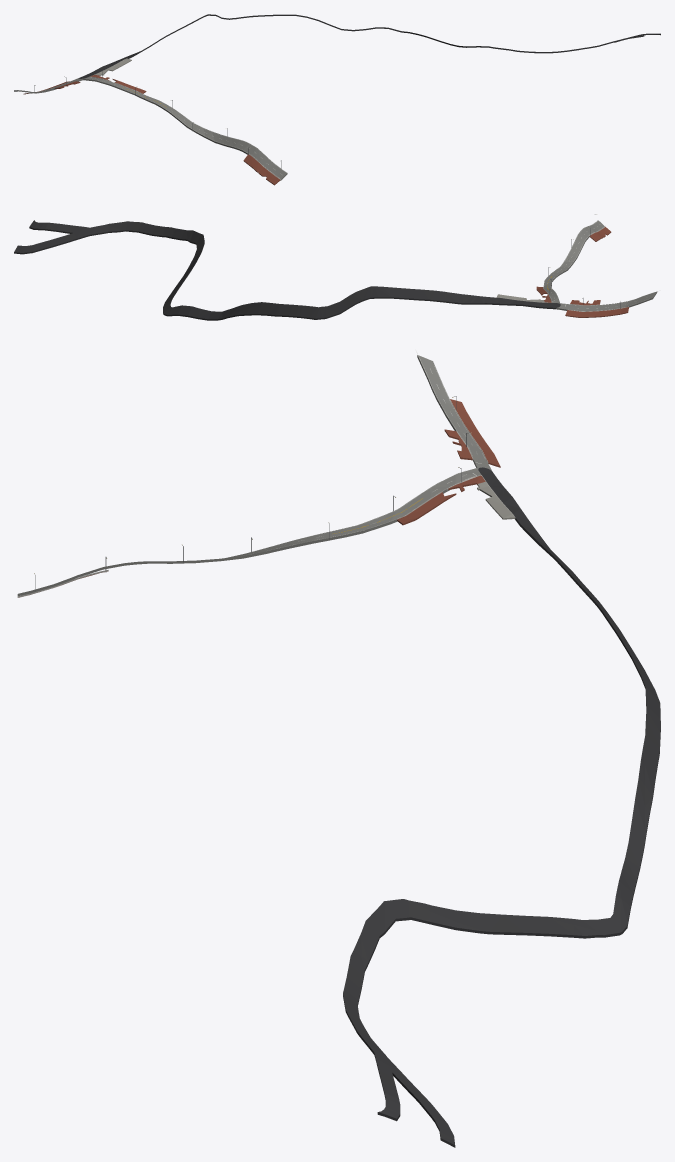
The picture shows the model from 3 angles, top to bottom: view 1: azimuth 30°, elevation 25°; view 2: azimuth 150°, elevation 25°; view 3: azimuth 270°, elevation 25°; orthographic projection. The views are drawn at different scales.
Bounding box in the file's own units: 589 × 98.05 × 274.
